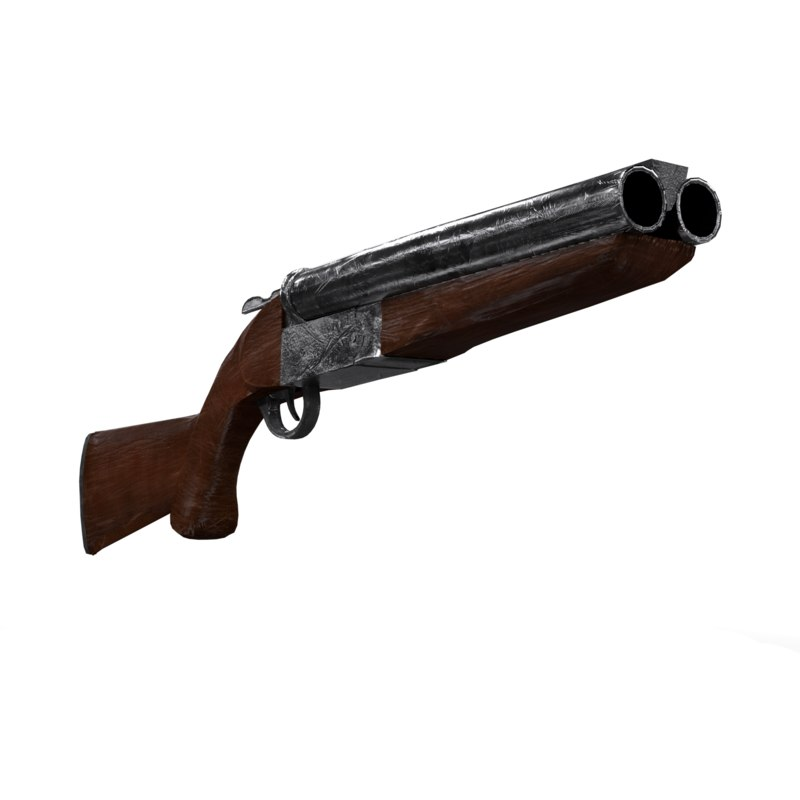weapon: (78, 153, 725, 560)
